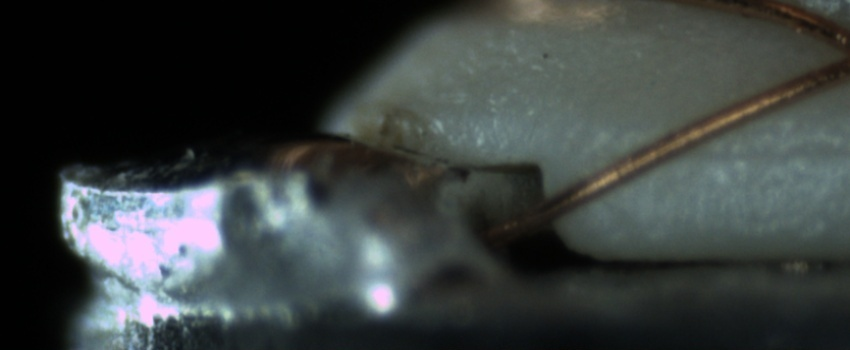CL: (810, 11, 850, 88)
DL: (660, 123, 849, 184)
